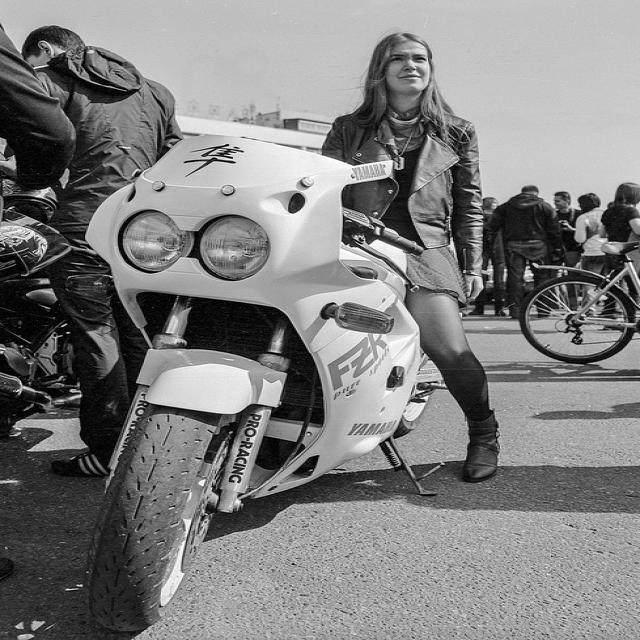motor: (72, 128, 449, 631), (0, 197, 81, 441)
